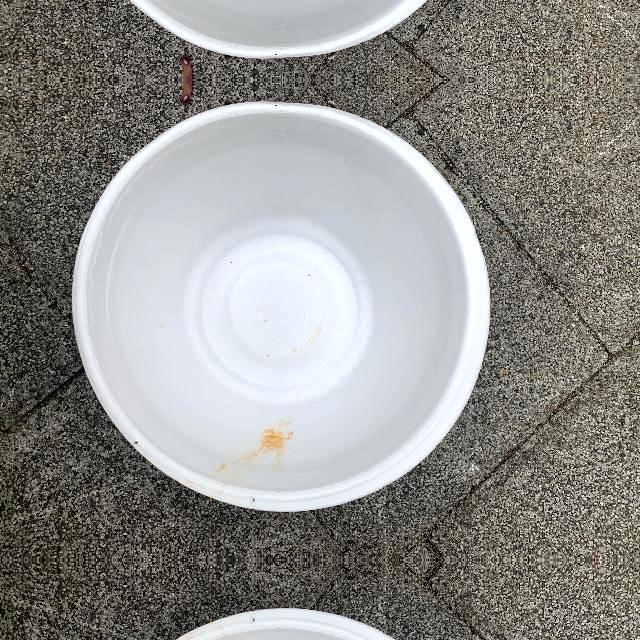Styrofoam: (70, 100, 494, 512), (72, 101, 490, 512)
